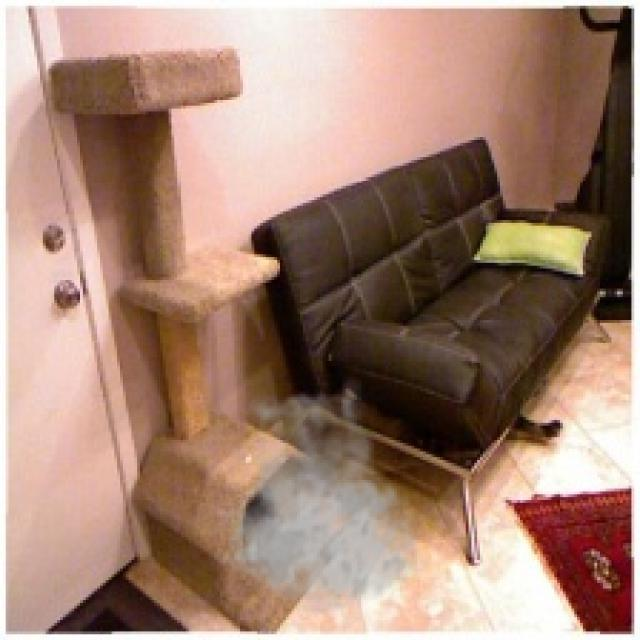Smoke: (208, 374, 428, 617)
